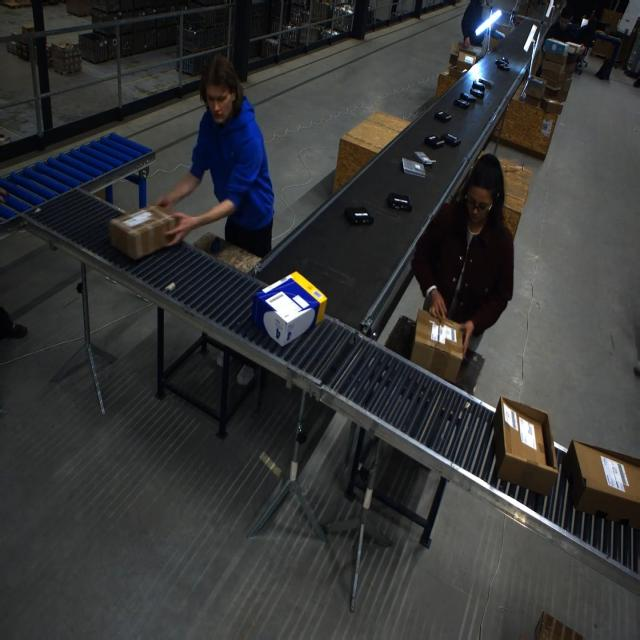box: (564, 440, 640, 529), (490, 401, 559, 496), (251, 271, 324, 346), (108, 205, 179, 260), (410, 308, 462, 381), (539, 57, 570, 82), (521, 76, 546, 103), (548, 76, 572, 102), (540, 94, 564, 115), (542, 46, 567, 65), (448, 66, 469, 79)
product: (431, 103, 455, 127), (344, 206, 373, 225), (387, 193, 412, 212), (401, 157, 424, 177), (413, 151, 435, 166), (469, 81, 485, 99), (424, 135, 444, 149), (441, 133, 460, 147), (453, 98, 471, 109), (460, 91, 476, 103), (478, 78, 493, 87), (496, 57, 509, 66)
